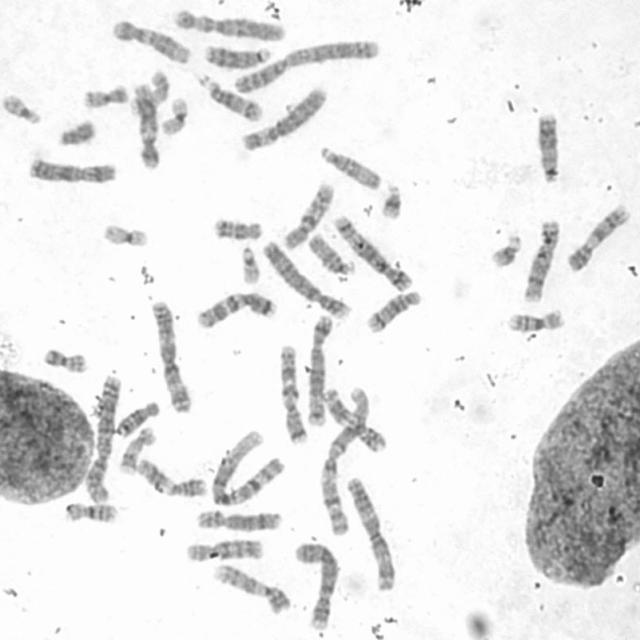A1: (320, 386, 371, 536), (210, 429, 285, 506)
A2: (233, 38, 381, 94), (85, 374, 123, 504)
A3: (347, 476, 395, 591), (150, 301, 191, 414)
B4: (261, 241, 352, 319), (294, 543, 339, 630)
B5: (335, 215, 411, 292), (307, 314, 333, 426)
C10: (284, 182, 334, 250), (186, 538, 264, 562)
C11: (321, 388, 385, 453), (134, 457, 208, 498)
C12: (112, 19, 191, 64), (132, 82, 160, 168)
C6: (241, 86, 328, 150), (174, 9, 285, 41)
C7: (278, 344, 308, 445), (198, 292, 278, 328)
C8: (523, 219, 560, 303), (196, 509, 281, 532)
C9: (568, 203, 632, 271), (213, 562, 290, 614)
D13: (537, 113, 559, 182), (205, 46, 270, 69)
D14: (196, 75, 263, 121), (367, 290, 422, 332)
D15: (320, 146, 382, 190), (307, 232, 351, 276)
E16: (509, 309, 564, 332), (64, 502, 117, 524)
E17: (129, 70, 170, 114), (120, 426, 156, 476)
E18: (116, 401, 160, 437), (215, 218, 263, 240)
F19: (160, 97, 190, 135), (103, 224, 148, 246)
F20: (83, 84, 129, 109), (43, 349, 87, 373)
G21: (490, 234, 522, 268), (381, 184, 402, 219)
G22: (2, 94, 41, 125), (240, 246, 260, 284)
X: (28, 157, 117, 183)
Y: (57, 120, 96, 146)
